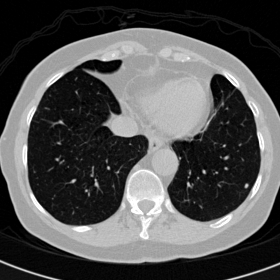nodule: (244, 184, 248, 188)
